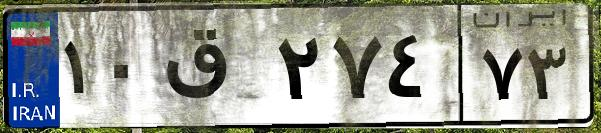0: (110, 28, 158, 98)
1: (57, 26, 110, 100)
2: (270, 28, 330, 110)
3: (525, 38, 570, 115)
4: (385, 28, 445, 110)
7: (330, 28, 385, 110), (475, 38, 525, 113)
ق: (158, 20, 270, 120)
